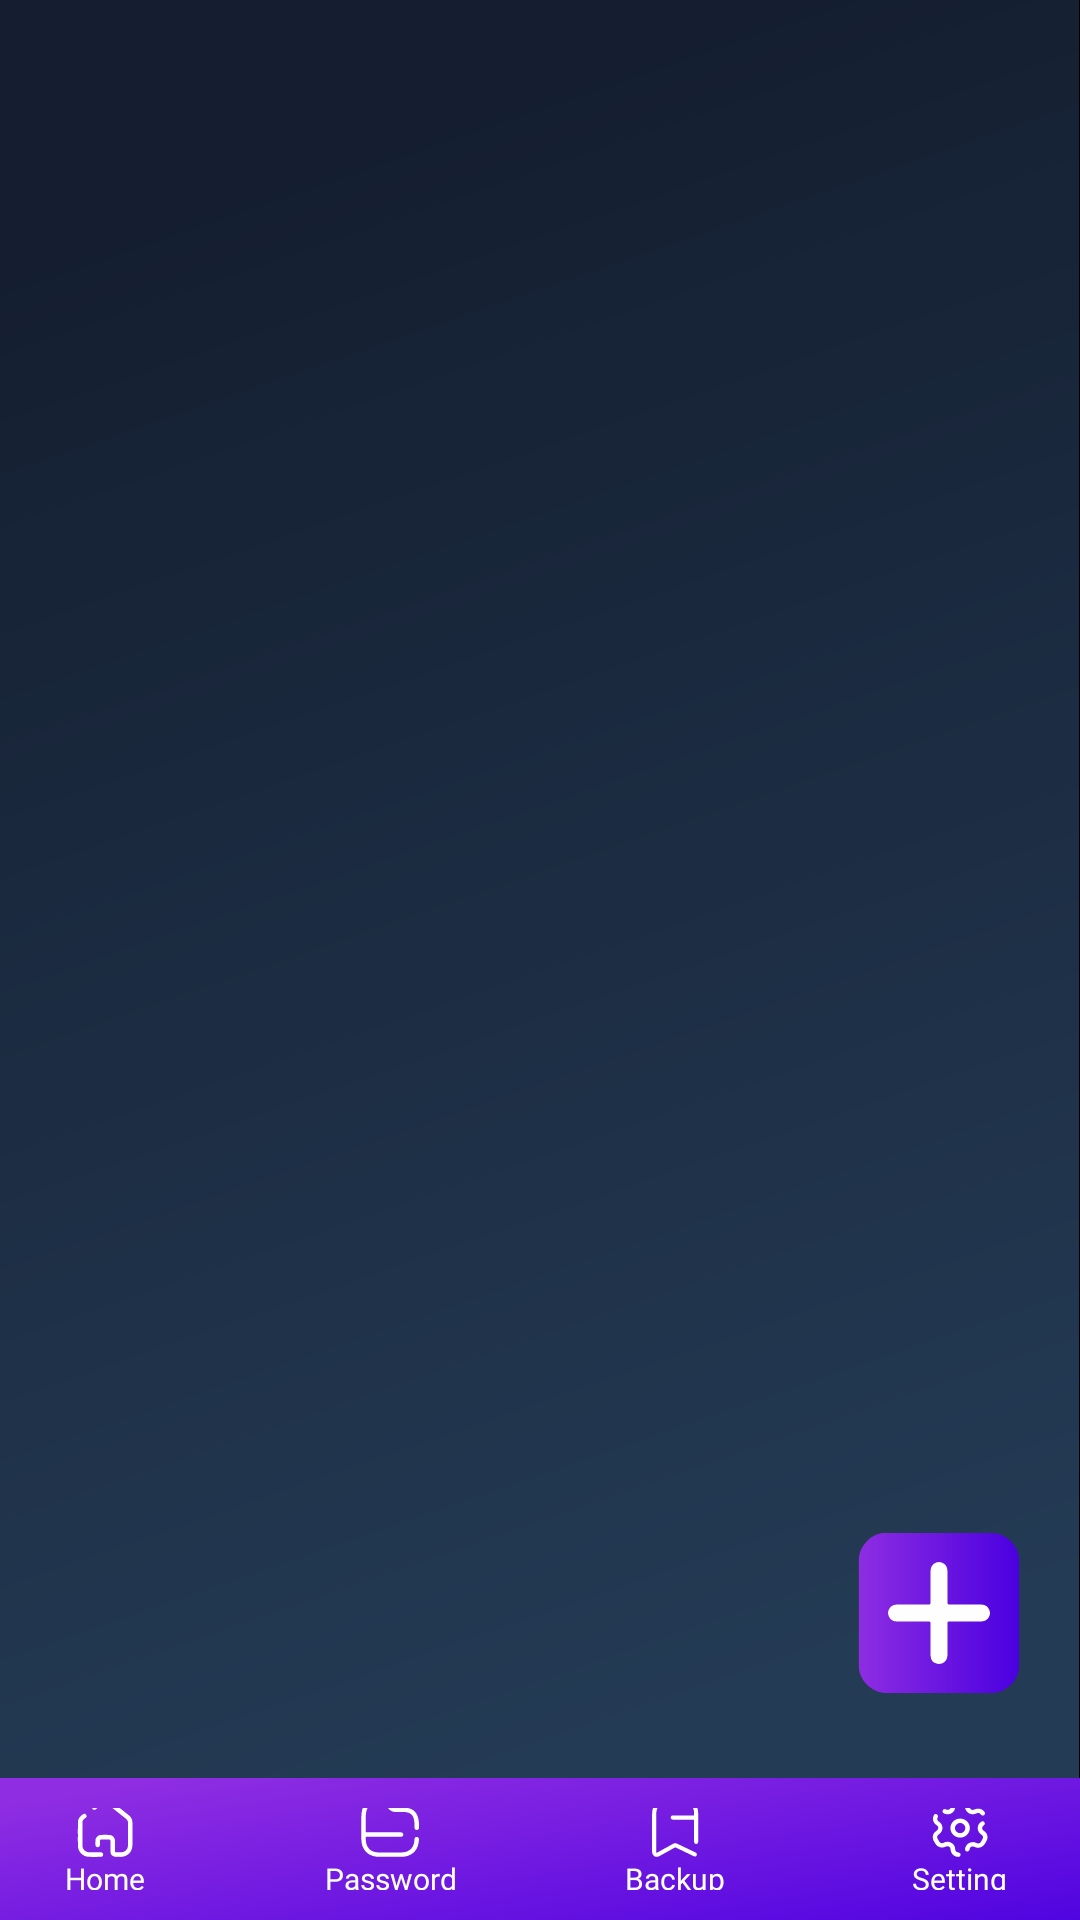

Where icons sit on this 1080w x 1920h app screen, as region(x1, y1, x2, y2):
adddata: region(859, 1533, 1019, 1693)
simpan: region(652, 1808, 699, 1857)
